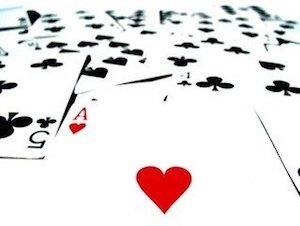AceOfHearts: (60, 101, 273, 226)
